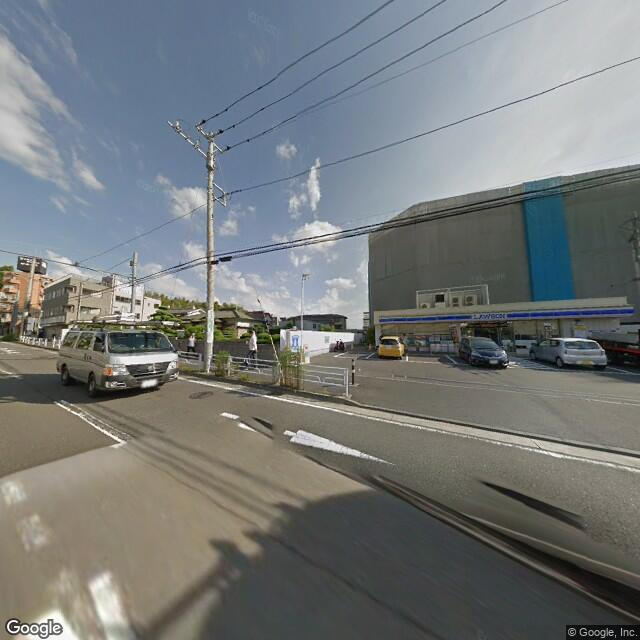lawson: (378, 301, 635, 326), (286, 332, 301, 353)
